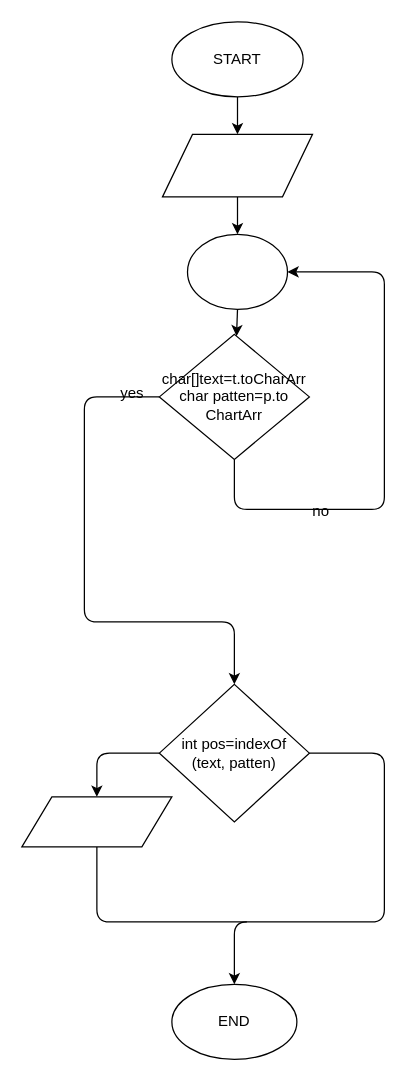
This 416x1081 diagram has some shape labels left out. The shapes that lost their labels are listed below. From the top down, each one's centre as x and y in pixels, then its label:
At (236,165): "input BoyerMoore".
At (237,271): "loop".
